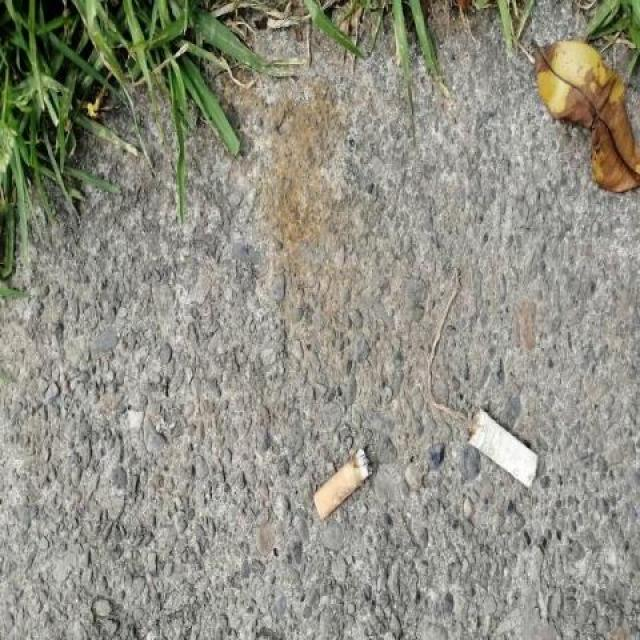non-organic waste: (460, 397, 541, 491), (307, 444, 378, 528)
